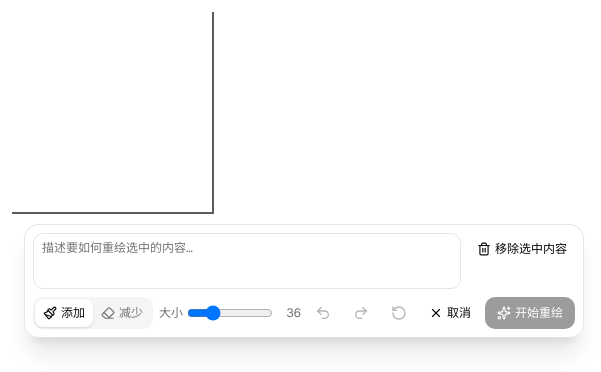
Test case: ImageEraserOverlay › rejects a repaint mask that has been completely erased
Type "修复这里" into the text box named "修改要求" at [247, 261], box [33,233,461,289]
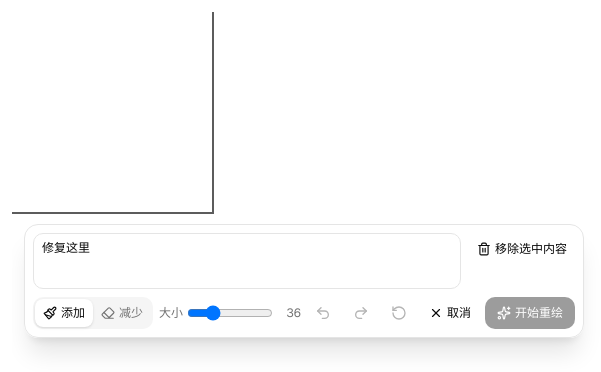
Press the mouse on the drawing named "局部重绘涂抹区域" at [112, 112], box [12,12,212,212]
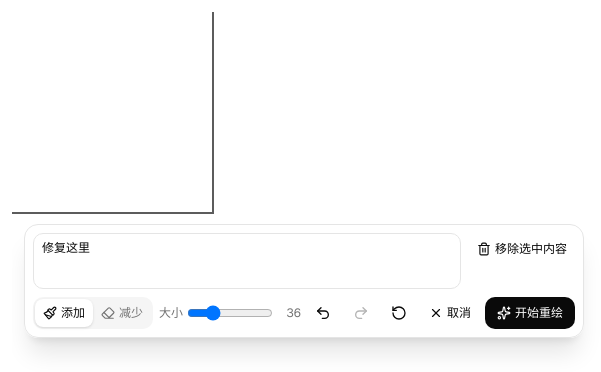
Check: the button "开始重绘" is enabled, box [485,297,575,329]
Click the button with aria-label "减少涂抹" at [122, 313], box [93,299,151,327]
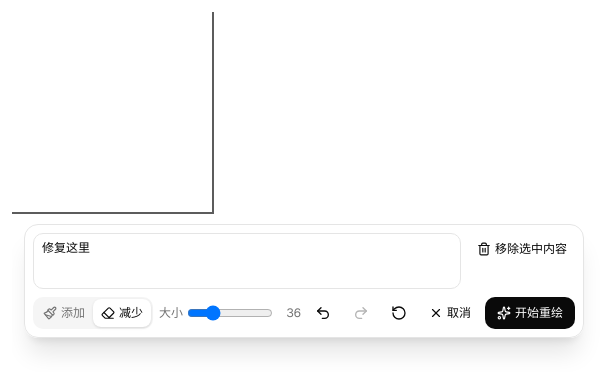
Press the mouse on the drawing named "局部重绘涂抹区域" at [112, 112], box [12,12,212,212]
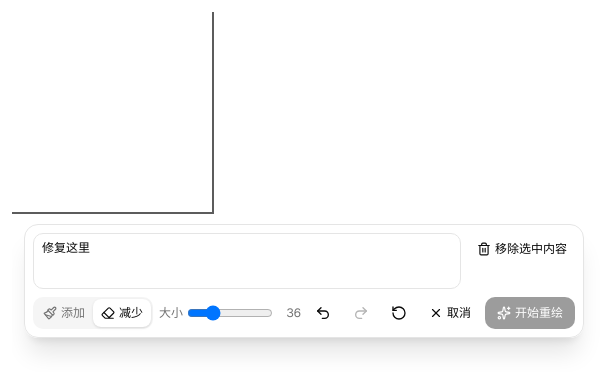
Check: the button "开始重绘" is disabled, box [485,297,575,329]
